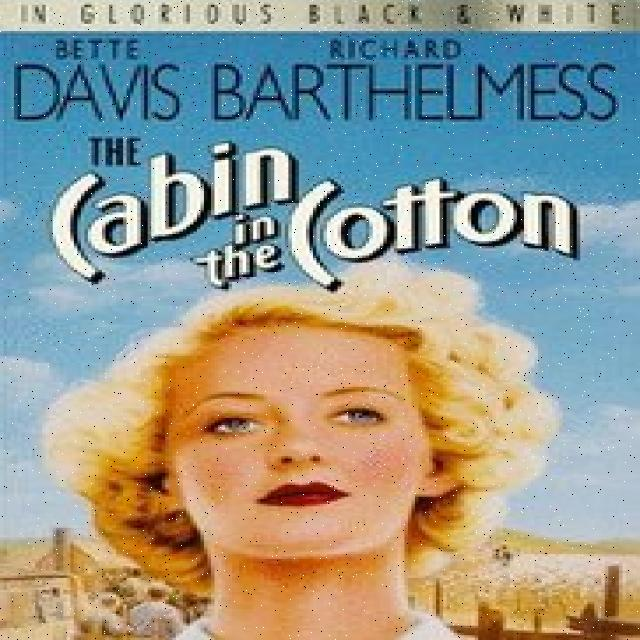movie-judul: (31, 122, 614, 302)
picture: (21, 262, 565, 640)
